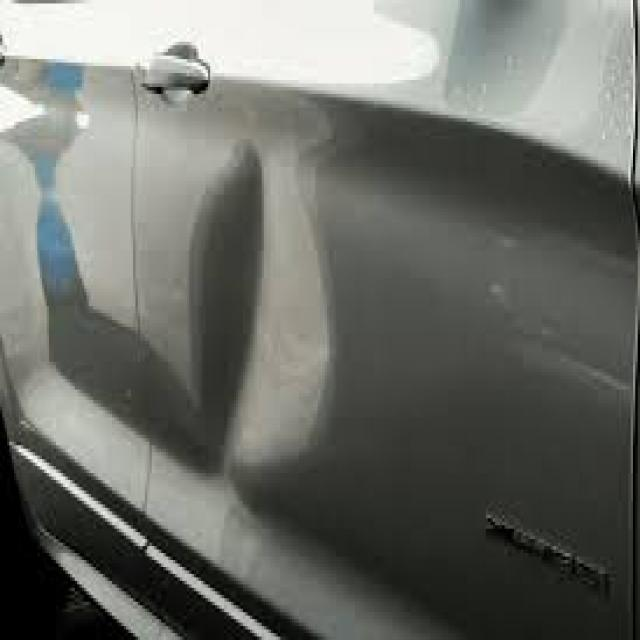minor: (110, 36, 398, 542)
